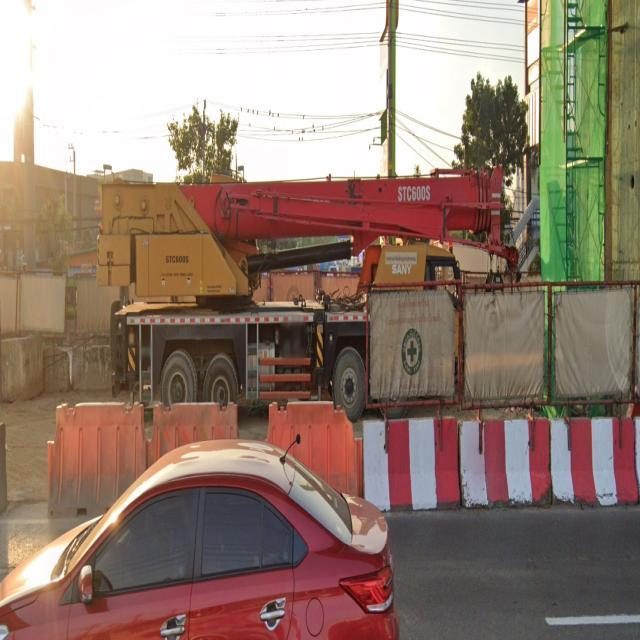fallen_object: (26, 383, 156, 524), (255, 390, 368, 507), (123, 386, 242, 485), (350, 419, 472, 514), (450, 403, 560, 508), (537, 405, 640, 512)
